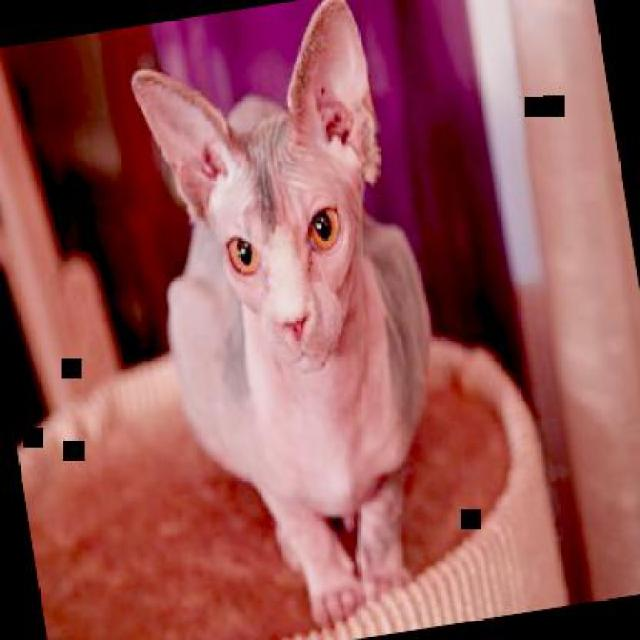cat: (117, 0, 477, 638)
